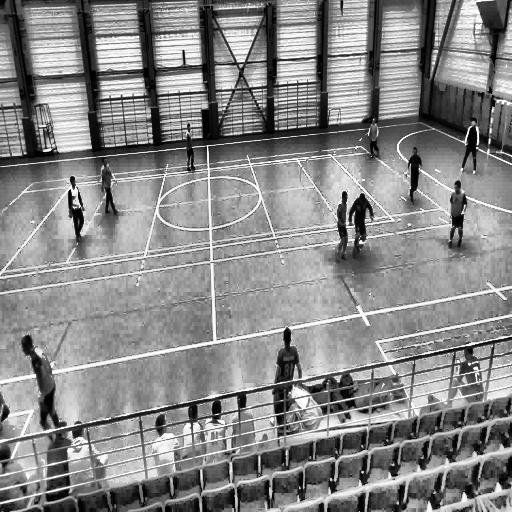ball: (356, 236, 365, 251)
player: (20, 332, 58, 432), (275, 325, 303, 409), (349, 192, 374, 260), (447, 179, 467, 249), (67, 175, 86, 244), (100, 156, 120, 216), (460, 116, 479, 173), (405, 145, 422, 205), (336, 190, 350, 262), (367, 114, 380, 159), (186, 122, 197, 173)
